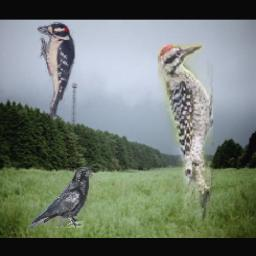Crow: (30, 168, 94, 229)
Woodpecker: (159, 44, 214, 221), (38, 21, 75, 118)
